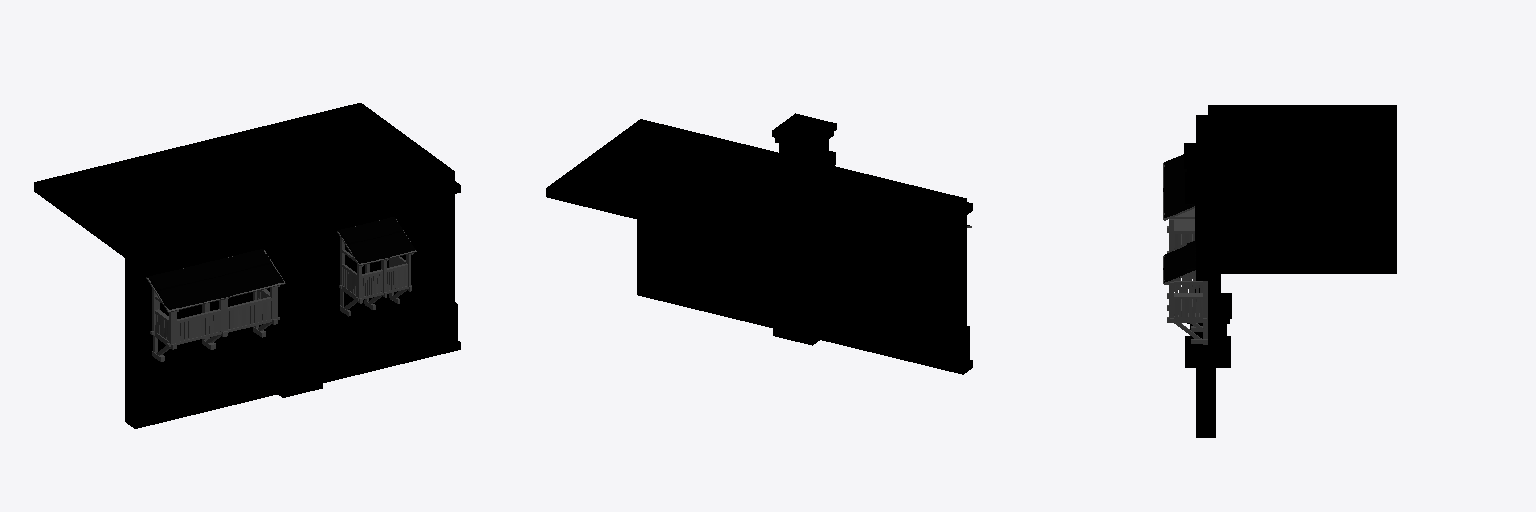
3 renders of one model, left to right at view 1: azimuth 30°, elevation 25°; view 2: azimuth 150°, elevation 25°; view 3: azimuth 270°, elevation 25°, orthographic.
Parts seen in each view (by area): view 1: Cube.049_Cube.075, object_4, object_8, object_5, object_21, object_3, object_20, object_7, object_9, object_6, object_19, object_10 (+8 smaller); view 2: object_5, object_4, object_3, object_21, object_20, object_7, object_6, object_2, object_1, object_14, object_17, object_12 (+3 smaller); view 3: object_3, object_20, Cube.049_Cube.075, object_6, object_21, object_7, object_4, object_1, object_2, object_9, object_14, object_11 (+3 smaller).
Part boxes in pixels (left/top/right/bottom): Cube.049_Cube.075: left=146, top=217, right=416, bottom=361; object_4: left=309, top=169, right=454, bottom=333; object_8: left=129, top=302, right=457, bottom=419; object_5: left=125, top=214, right=280, bottom=424; object_21: left=36, top=172, right=271, bottom=260; object_3: left=158, top=133, right=327, bottom=218; object_20: left=264, top=132, right=454, bottom=212; object_7: left=34, top=172, right=164, bottom=251; object_9: left=129, top=181, right=460, bottom=271; object_6: left=321, top=103, right=450, bottom=178; object_19: left=281, top=228, right=308, bottom=336; object_10: left=129, top=341, right=460, bottom=428; object_5: left=811, top=164, right=966, bottom=374; object_4: left=637, top=119, right=786, bottom=327; object_3: left=670, top=152, right=839, bottom=246; object_21: left=710, top=174, right=966, bottom=273; object_20: left=548, top=134, right=755, bottom=236; object_7: left=833, top=192, right=962, bottom=276; object_6: left=546, top=122, right=676, bottom=206; object_2: left=750, top=221, right=854, bottom=266; object_1: left=587, top=181, right=691, bottom=226; object_14: left=772, top=113, right=836, bottom=146; object_17: left=779, top=294, right=815, bottom=329; object_12: left=779, top=140, right=828, bottom=165; object_3: left=1216, top=165, right=1396, bottom=206; object_20: left=1208, top=207, right=1396, bottom=273; Cube.049_Cube.075: left=1163, top=154, right=1207, bottom=344; object_6: left=1216, top=245, right=1396, bottom=273; object_21: left=1216, top=128, right=1349, bottom=164; object_7: left=1216, top=105, right=1396, bottom=127; object_4: left=1208, top=195, right=1215, bottom=437; object_1: left=1350, top=205, right=1396, bottom=244; object_2: left=1350, top=125, right=1396, bottom=164; object_9: left=1196, top=115, right=1207, bottom=280; object_14: left=1184, top=143, right=1231, bottom=168; object_11: left=1185, top=172, right=1230, bottom=203.
Bounding box in the file's own units: 20 × 12.01 × 12.38.